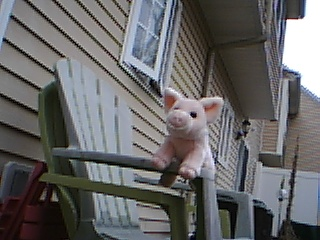piggy: (151, 86, 224, 181)
